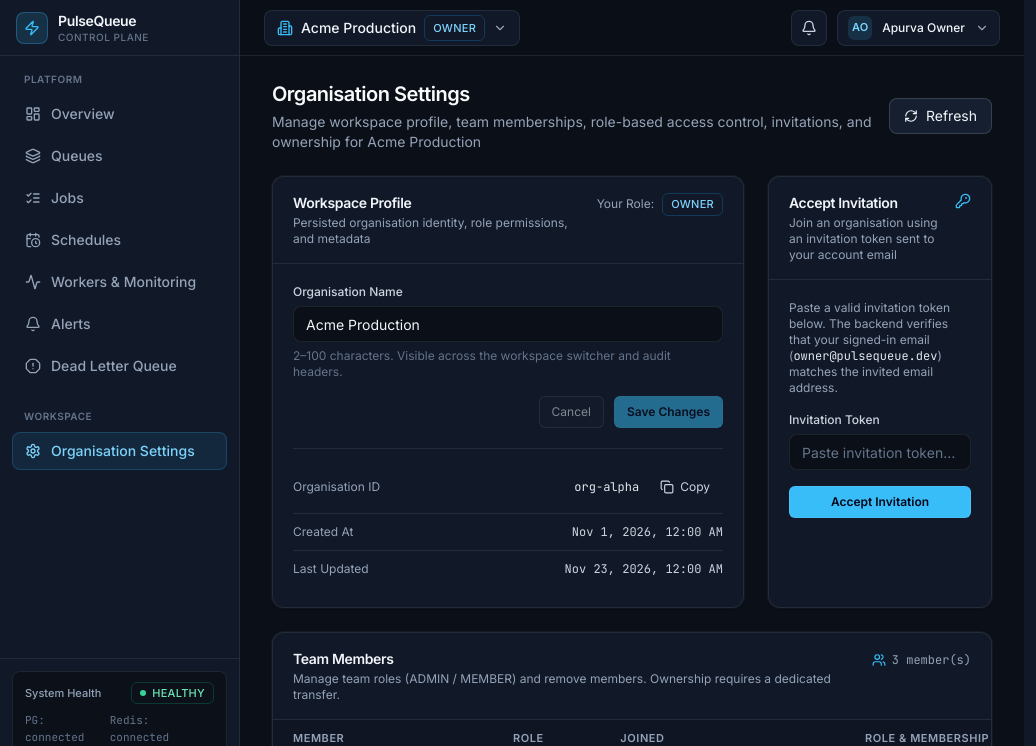
Test case: Organisation Settings & Team Management UI — Profile, Members, Invitations, Ownership Transfer & RBAC (Step 6.4.4) › renders organisation profile details, validates name edits, updates organisation name, and invalidates queries
The width and height of the screenshot is (1036, 746).
Check: the text "org-alpha" is shown, box [574,479,639,495]
Note: Client-side validation rejects 1-char name
Replace the text in the field labelled "Organisation Name" with "A". click: (508, 324)
box: [293,306,723,342]
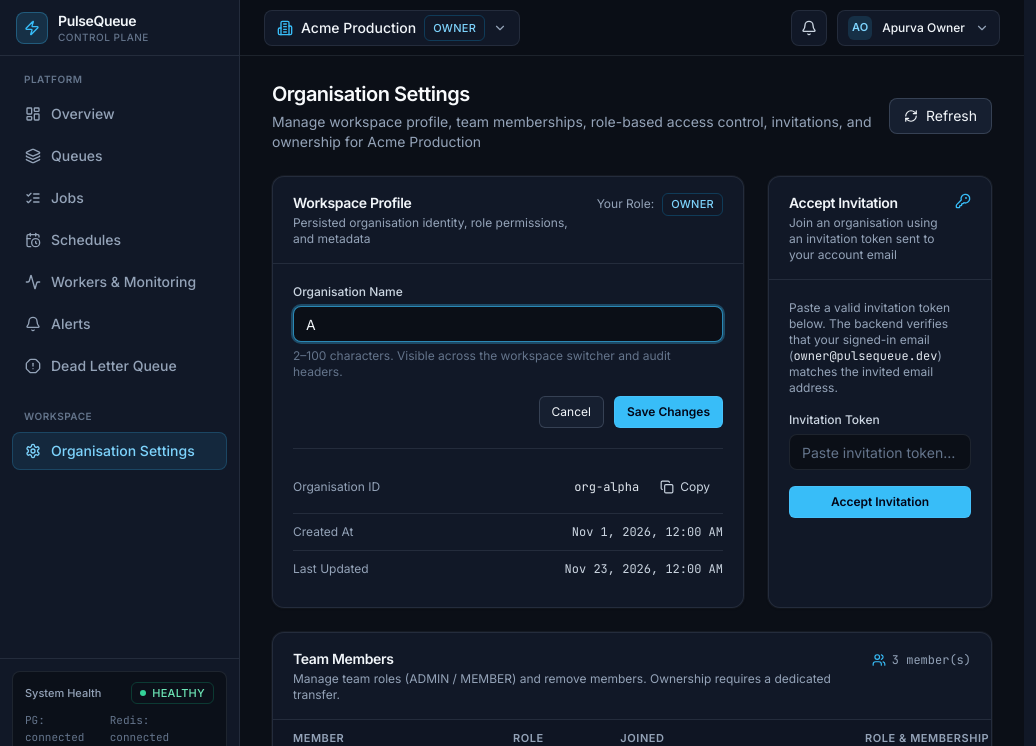
Click the button "Save Changes". click: click(668, 412)
box: [614,396,723,428]
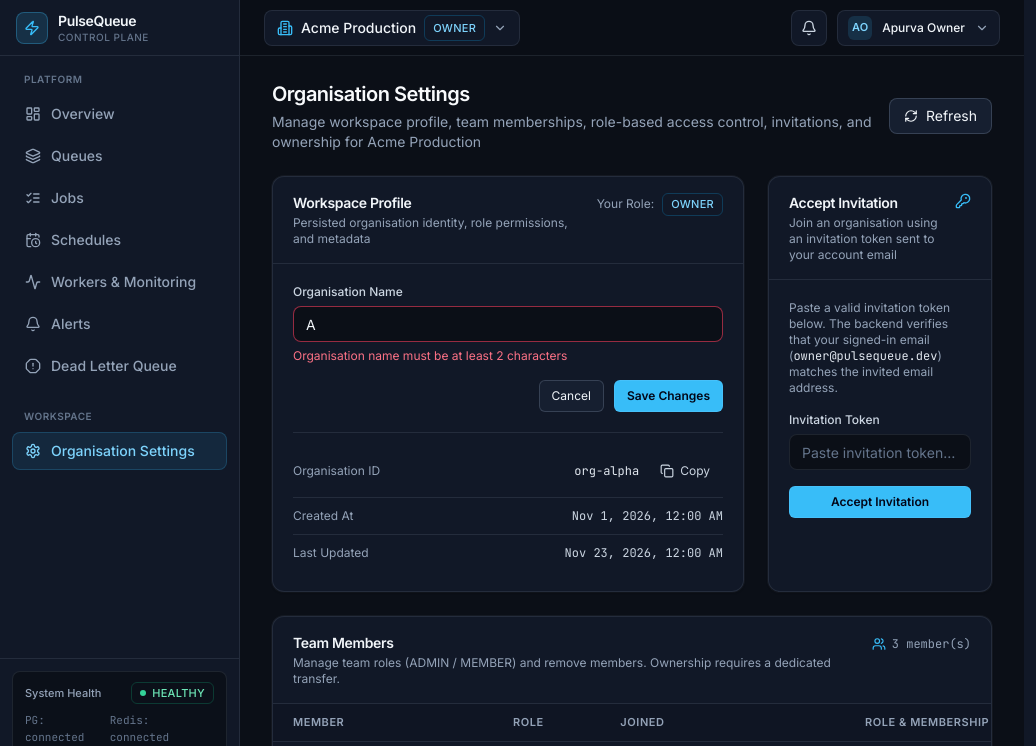
Check: the text "Organisation name must be at least 2 characters" is shown, box [293,348,567,363]
Clear the field labelled "Organisation Name". click: (508, 324)
box: [293,306,723,342]
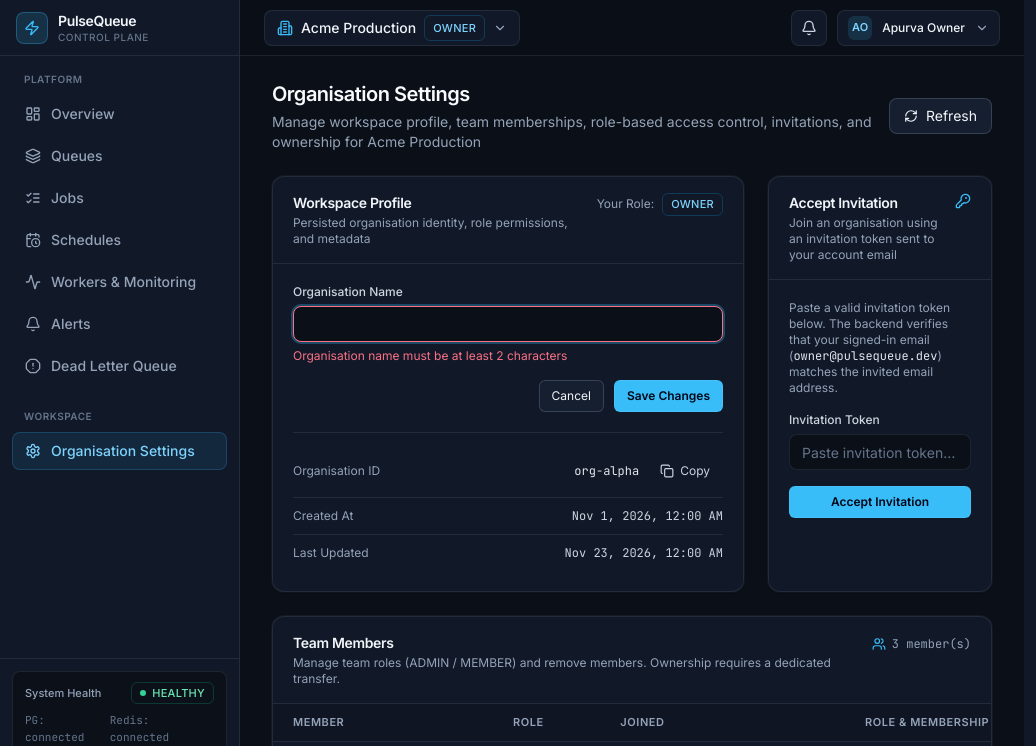
Type keys "Acme Global Cloud"
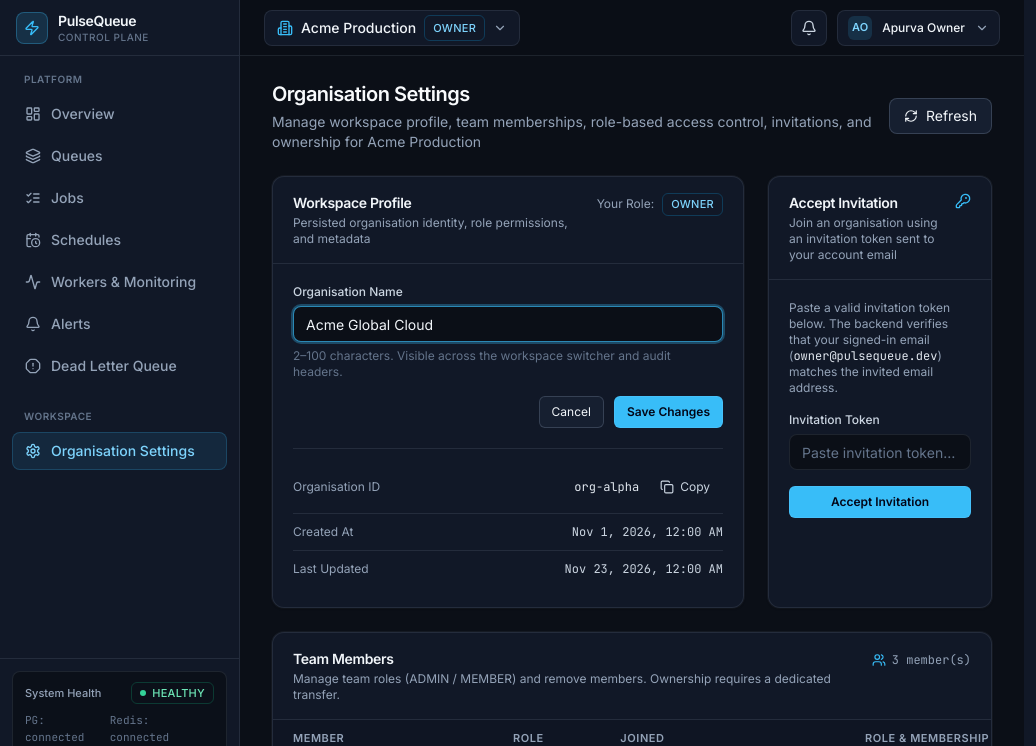
Click the button "Save Changes". click: click(668, 412)
box: [614,396,723,428]
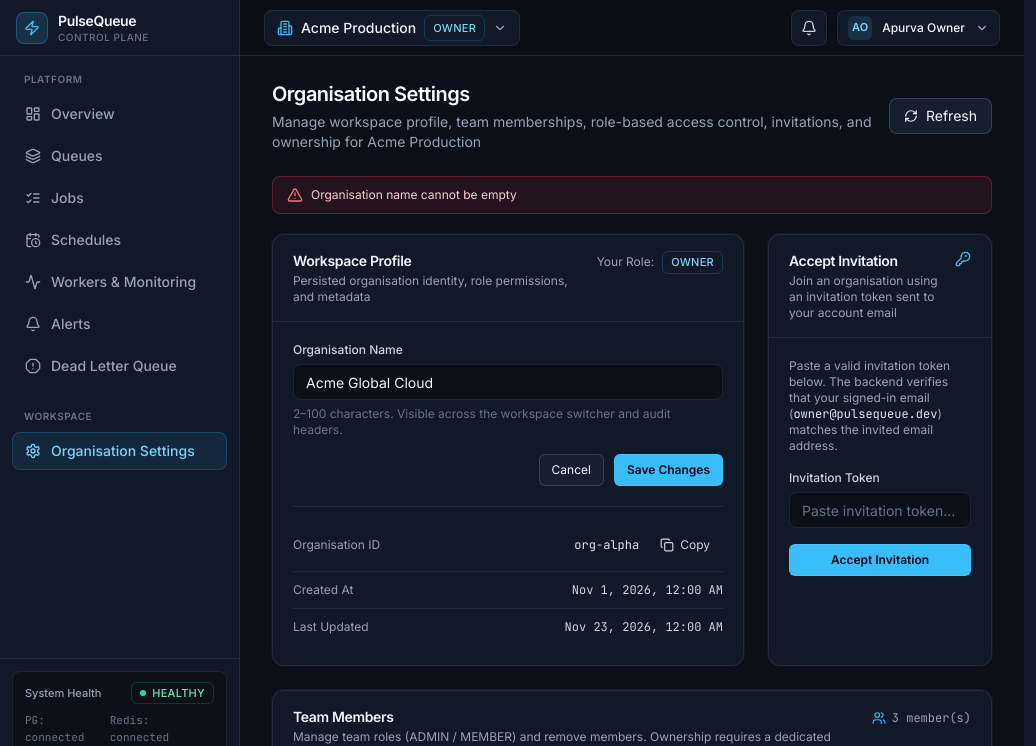
Check: the text "Organisation name cannot be empty" is shown, box [311,187,517,203]
Click the button "Save Changes". click: click(668, 470)
box: [614,454,723,486]
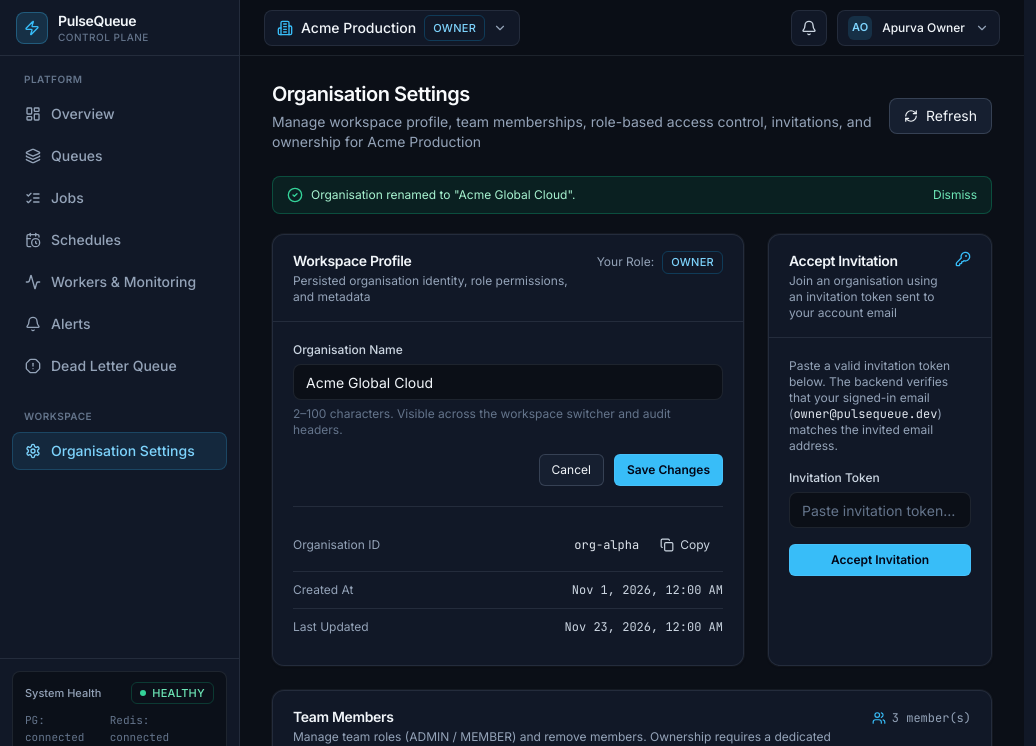
Check: the text "Organisation renamed to \"Acme Global Cloud\"." is shown, box [311,187,576,203]
